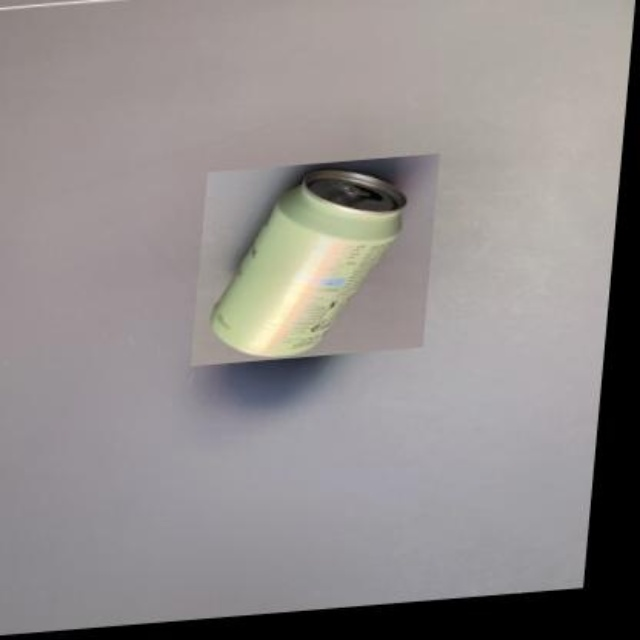trash: (211, 169, 405, 357)
